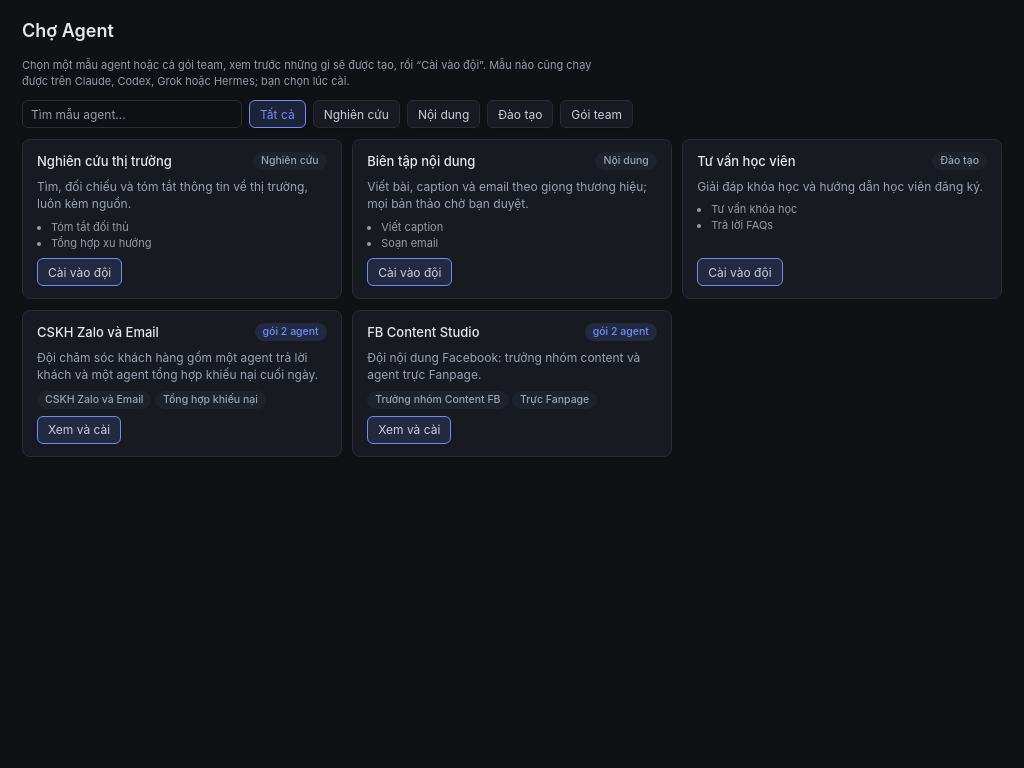
Scenario: team screens with the mock api › Chợ Agent shows templates and the packages
Click the button "Cài vào đội" below "Tổng hợp xu hướng" at (80, 272), box [37,258,122,286]
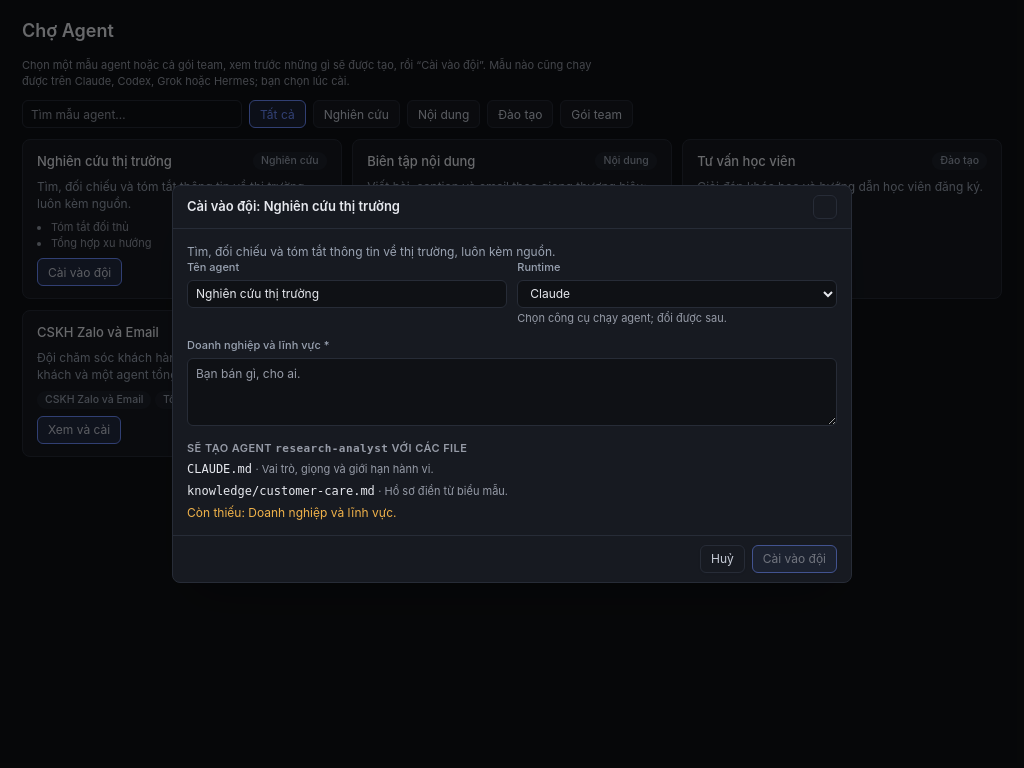
Expected: the text "knowledge/customer-care.md" is shown, [187,484,375,498]
Expected: the text "Còn thiếu: Doanh nghiệp" is shown, [187,505,396,520]
